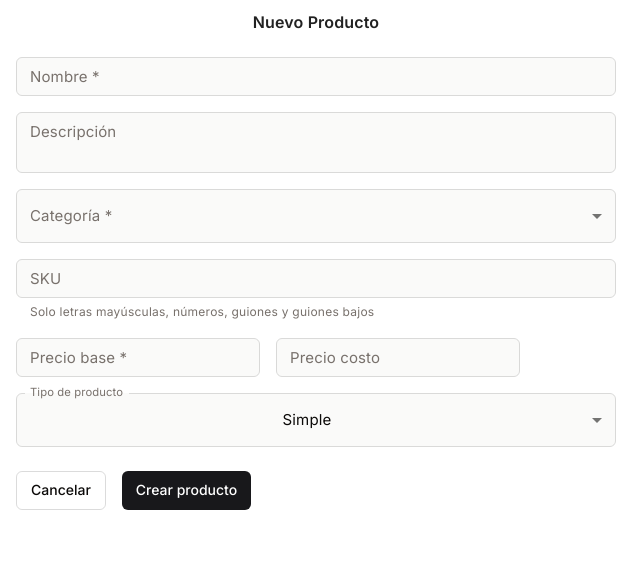
Test case: ProductForm — create mode › validates price must be non-negative
The width and height of the screenshot is (633, 573).
Type "Café" into the field named "nombre producto".
click(316, 77); type("Café")  # box [16, 57, 616, 96]
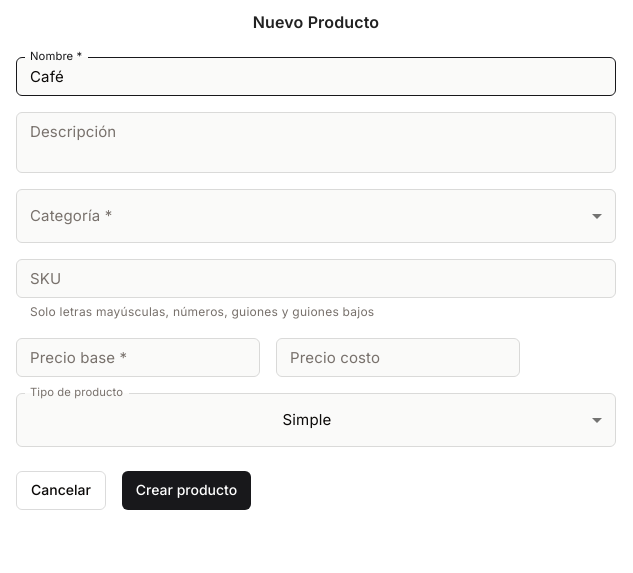
Type "-5" into the number field labelled "Precio base *".
click(138, 357); type("-5")  # box [16, 338, 260, 376]
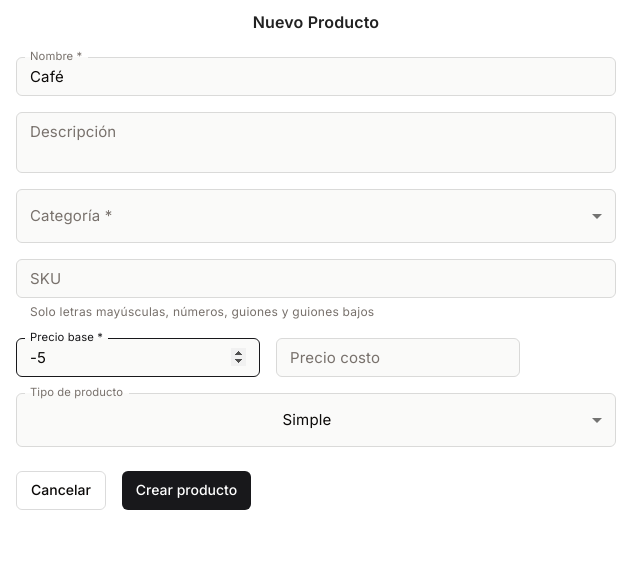
Click the button "Crear producto".
click(186, 490)  # box [122, 471, 251, 510]
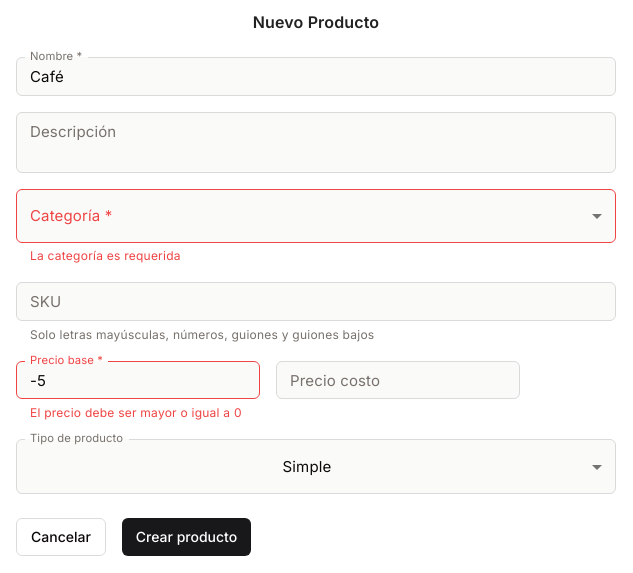
Check: the text "El precio debe ser mayor o igual a 0" is shown, box [30, 403, 246, 423]
